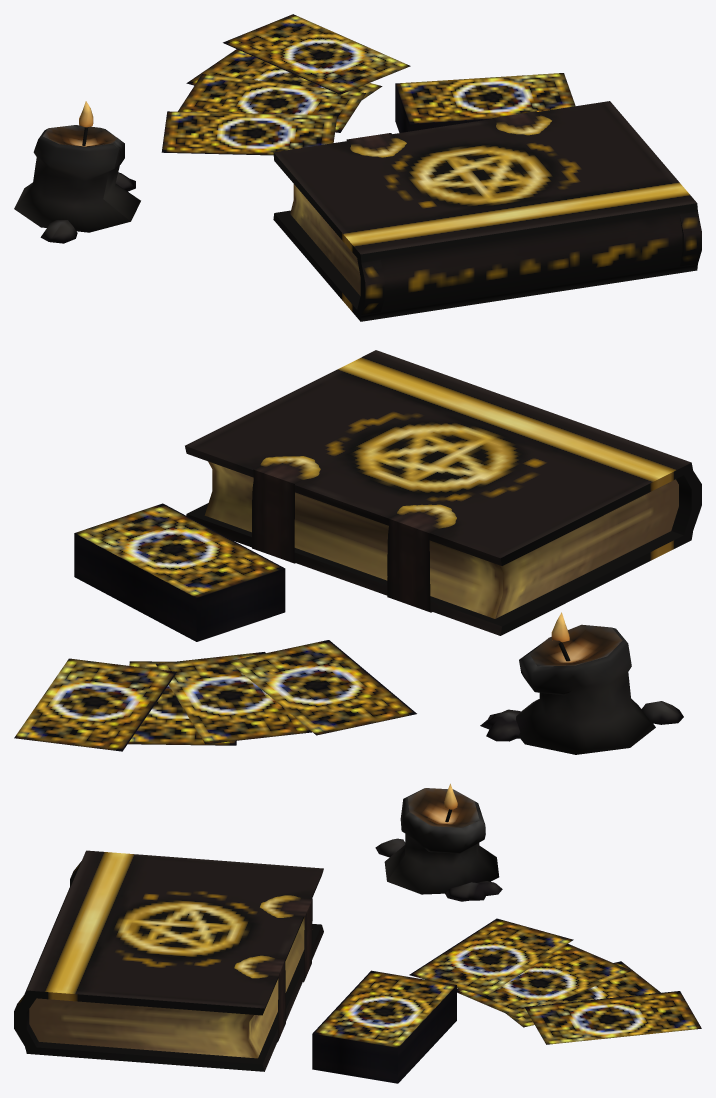
File: GrimoireTarotCandle.obj
3 views of the same model, one above another, from view 1: azimuth 30°, elevation 25°; view 2: azimuth 150°, elevation 25°; view 3: azimuth 270°, elevation 25° (orthographic). The views are drawn at different scales.
Visible parts, largest first — view 1: GrimoireCandleTarrot; view 2: GrimoireCandleTarrot; view 3: GrimoireCandleTarrot.
Boxes of the visible parts, x1,y1,x2,y2 form: GrimoireCandleTarrot: (14, 14, 701, 321); GrimoireCandleTarrot: (14, 350, 701, 754); GrimoireCandleTarrot: (14, 783, 701, 1083).
Size of the model in its own units: 2.26 by 0.4125 by 2.74.
1 material, 1 textured.
